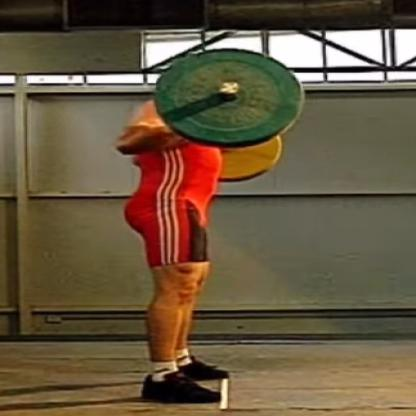Barbell: (146, 45, 312, 153)
